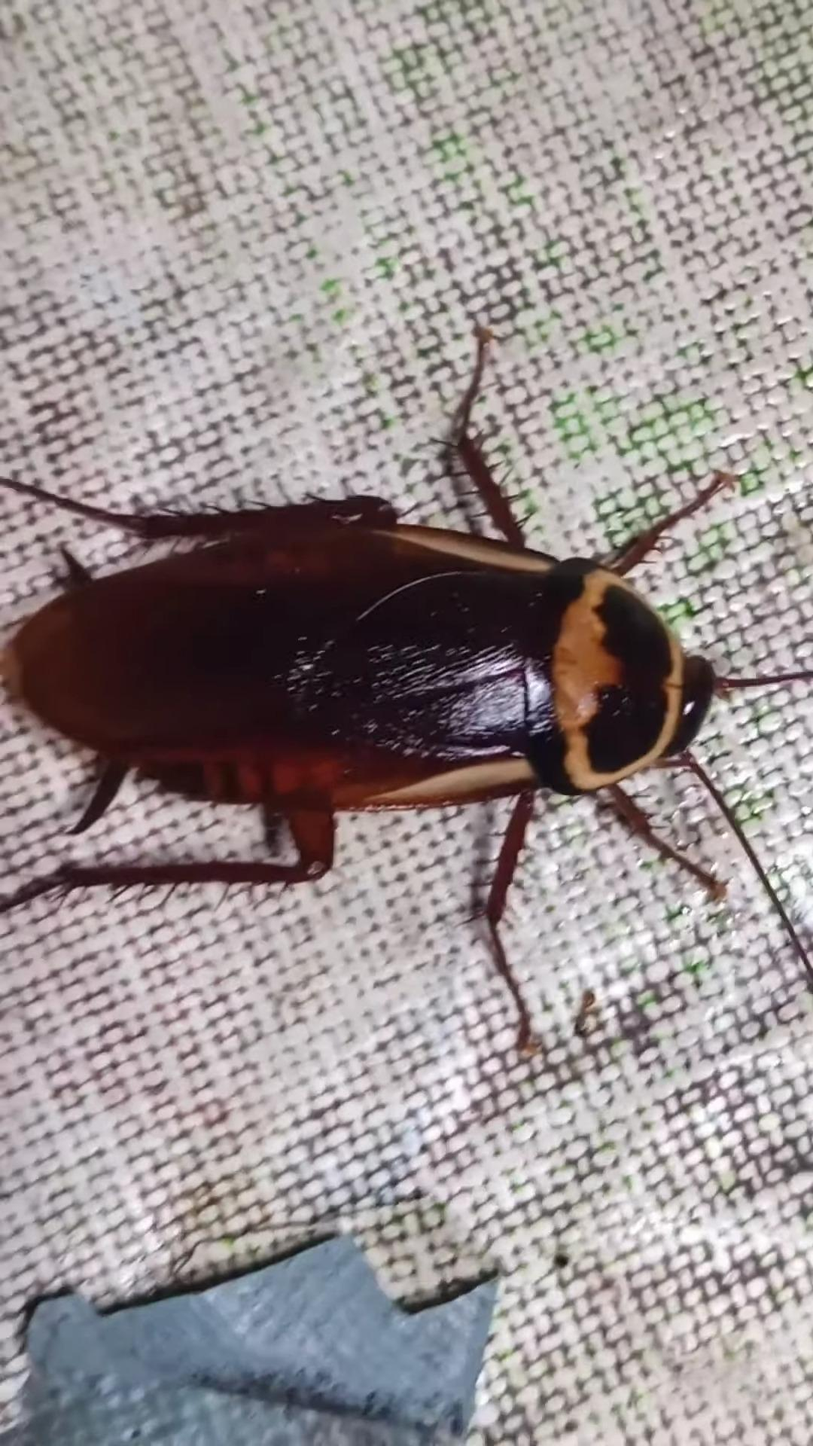cockroach: (0, 306, 813, 1070)
